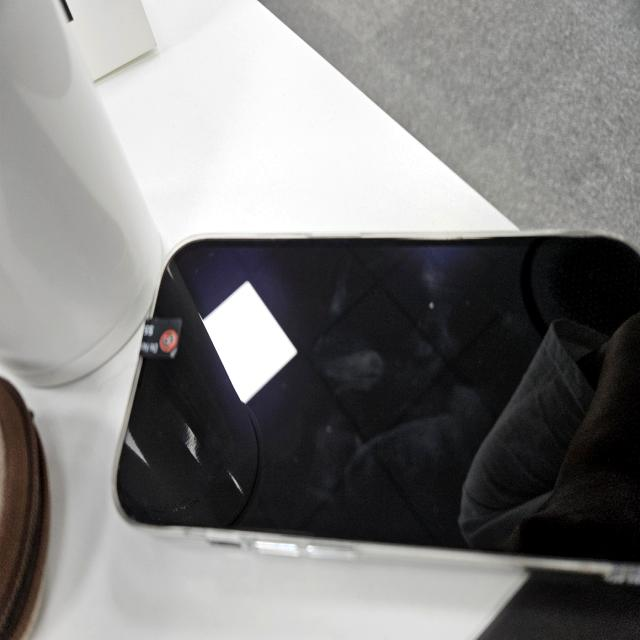phone: (111, 228, 640, 589)
sticker: (140, 317, 182, 361)
